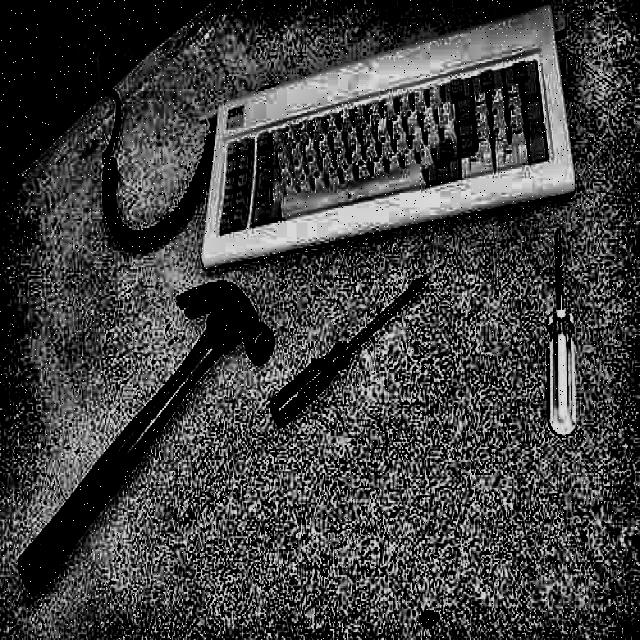screwdriver: (270, 273, 430, 428), (547, 228, 578, 440)
